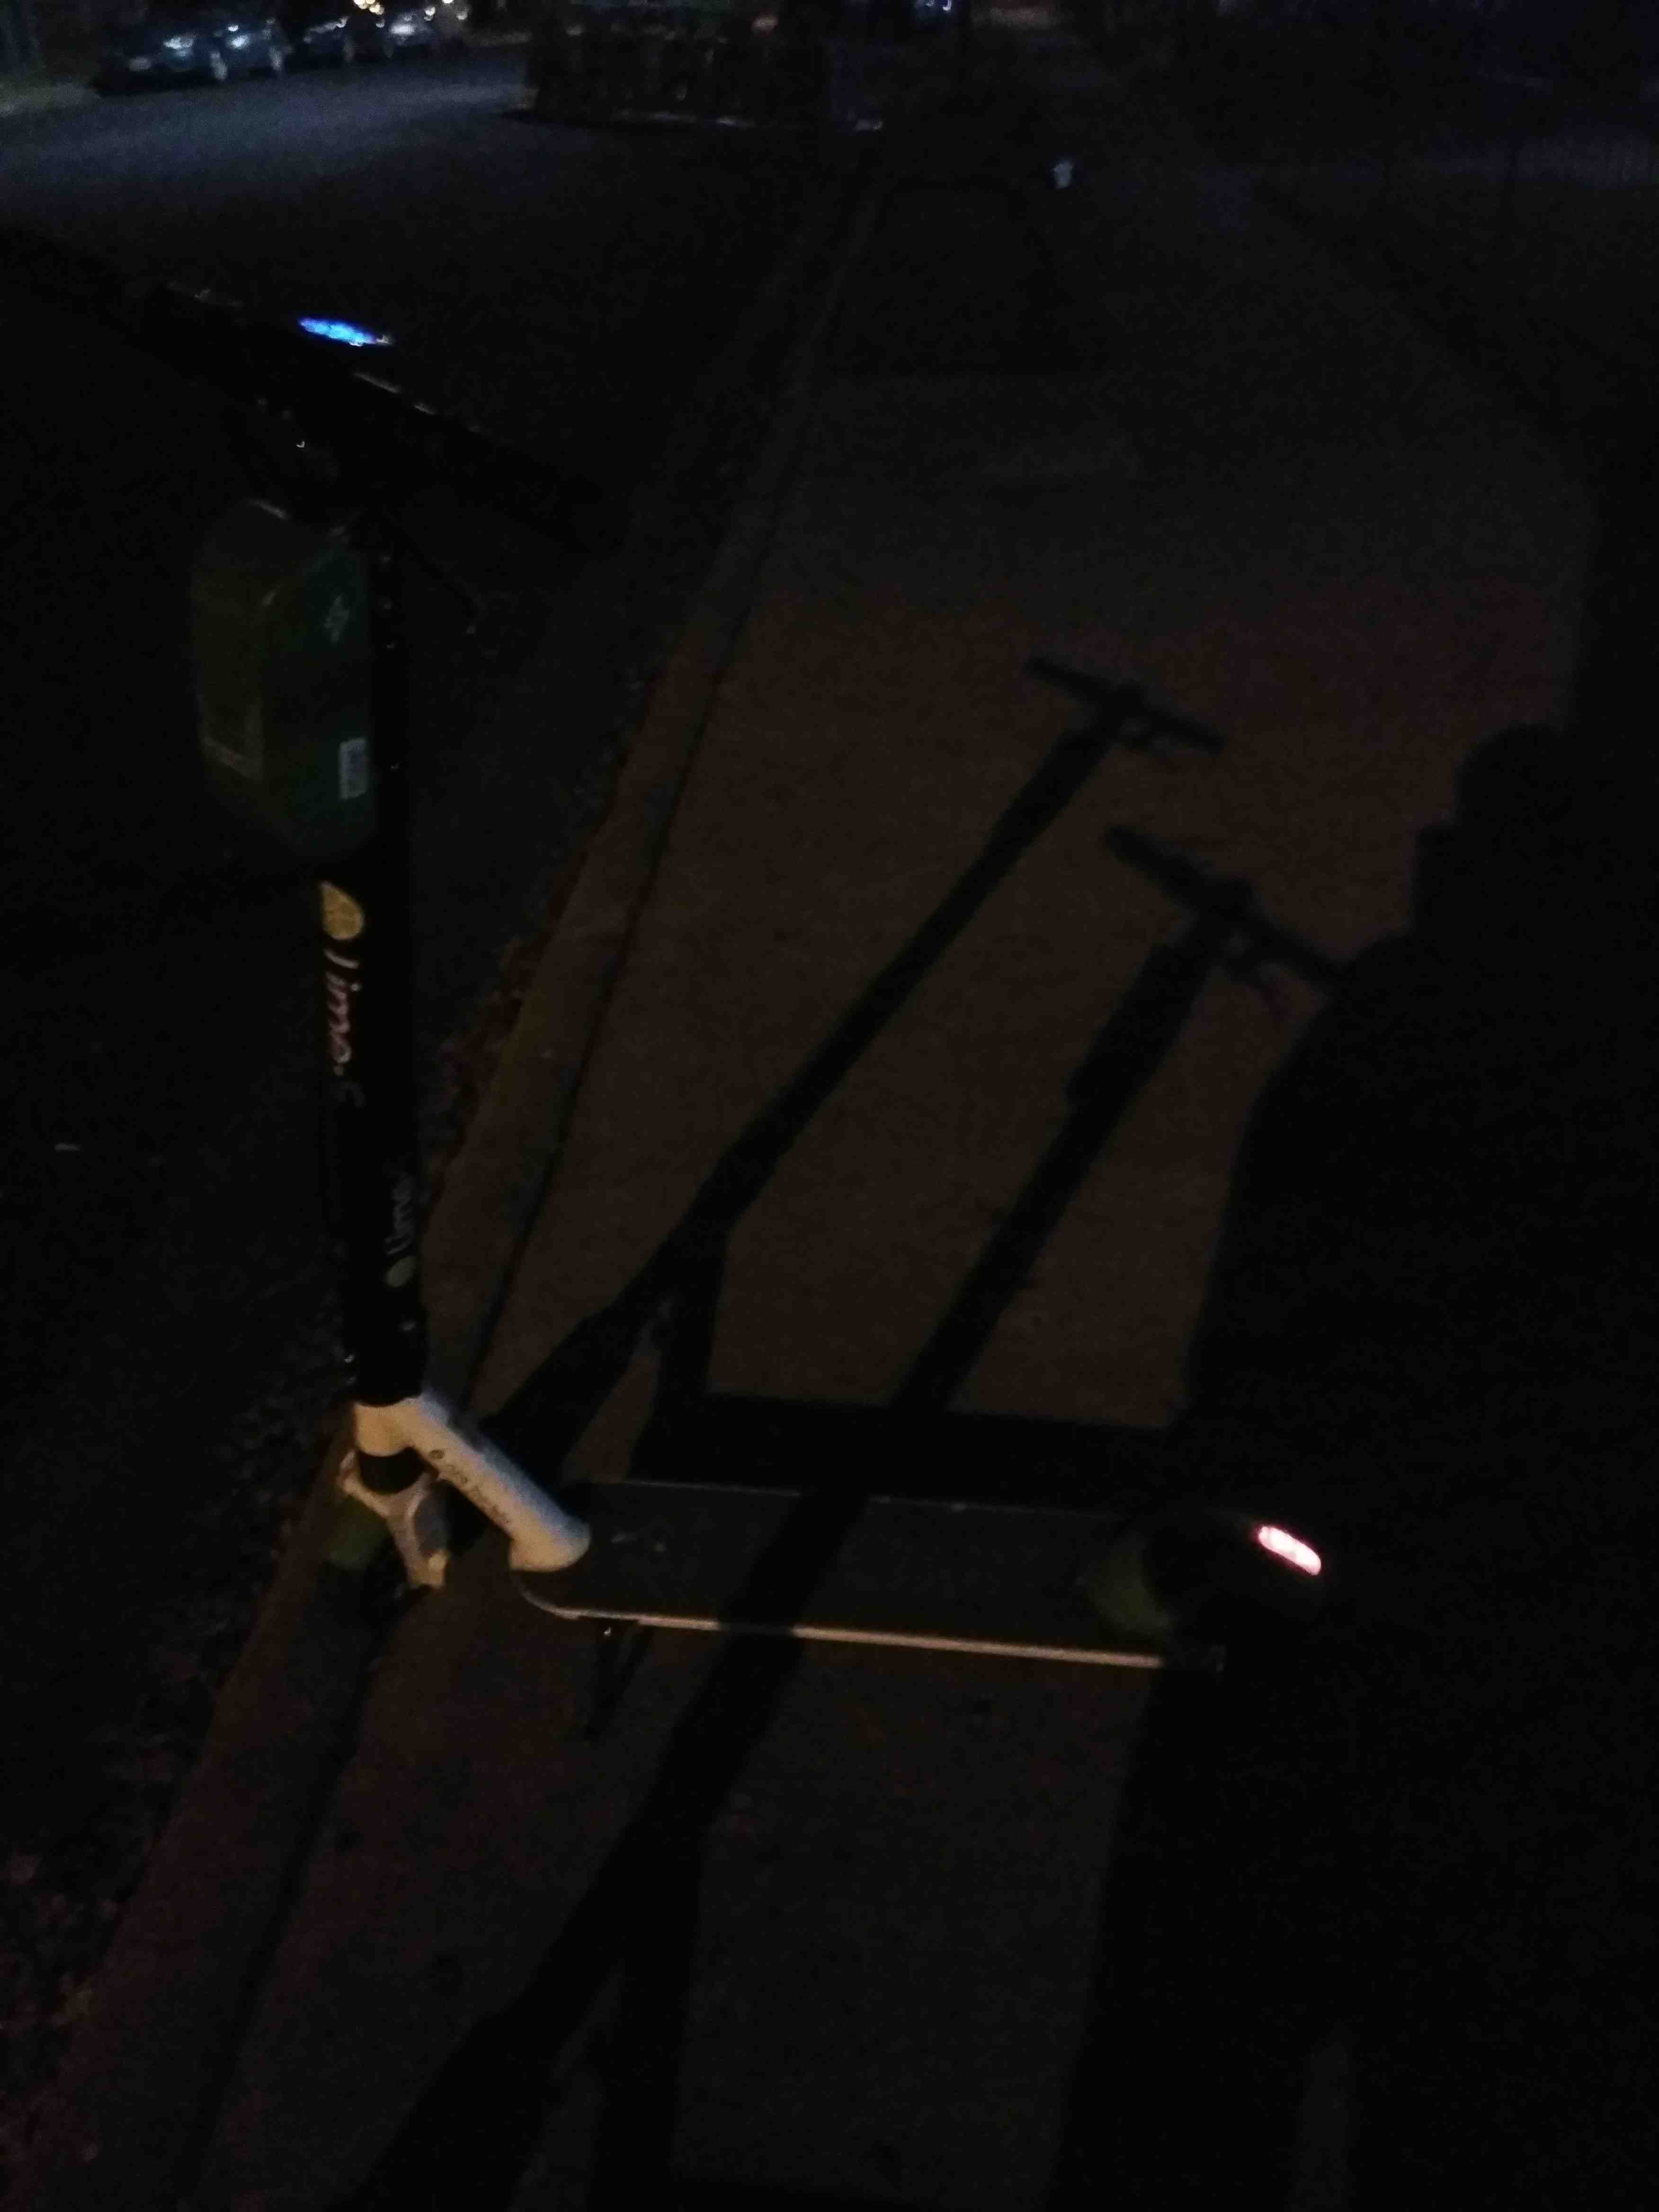too close: (230, 1402, 493, 1651)
